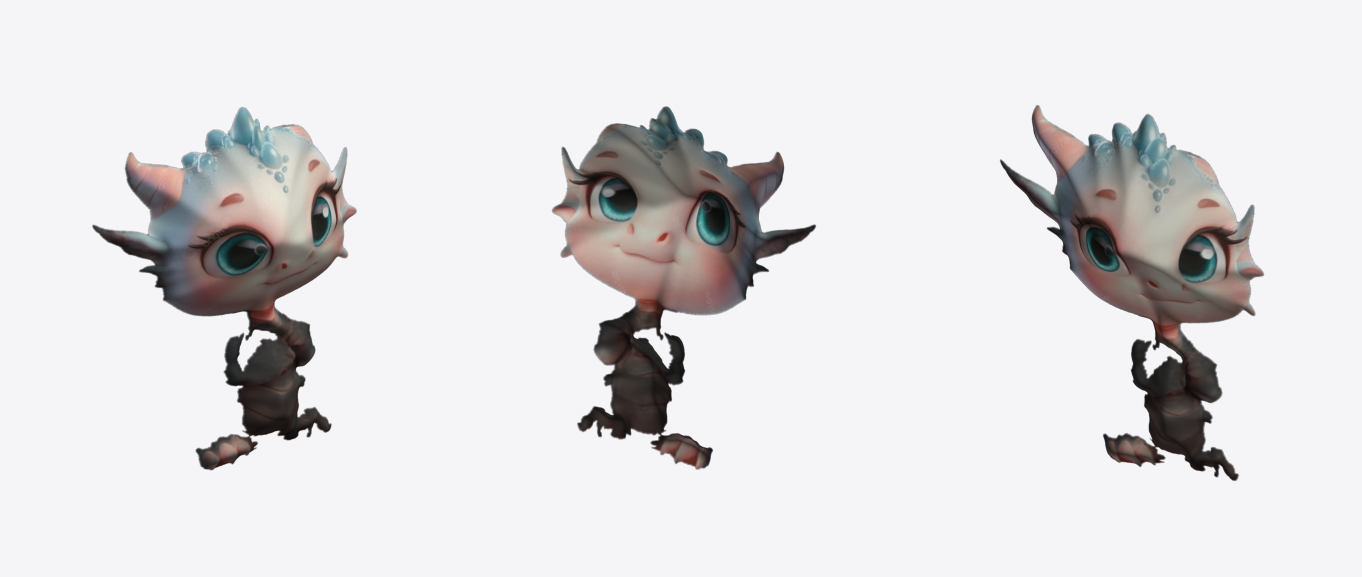
Rendered from nuri.glb.
3 views of the same model, side by side, from view 1: azimuth 30°, elevation 25°; view 2: azimuth 150°, elevation 25°; view 3: azimuth 330°, elevation 25° (orthographic).
Visible parts, largest first — view 1: NuriDragon; view 2: NuriDragon; view 3: NuriDragon.
Part boxes in pixels (bbox=[...]): NuriDragon: bbox=[92, 107, 356, 470]; NuriDragon: bbox=[552, 106, 815, 469]; NuriDragon: bbox=[1000, 105, 1263, 480].
Bounding box in the file's own units: 2.05 × 2.05 × 0.2574.
1 material, 1 textured.
